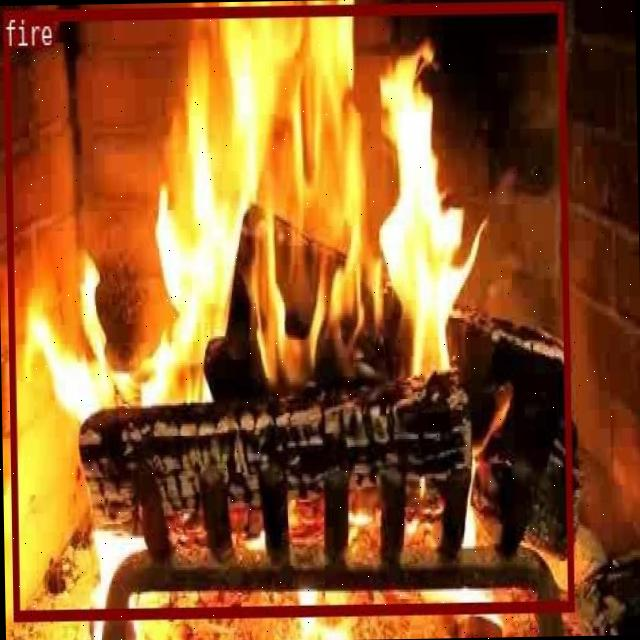fire: (2, 0, 573, 618)
